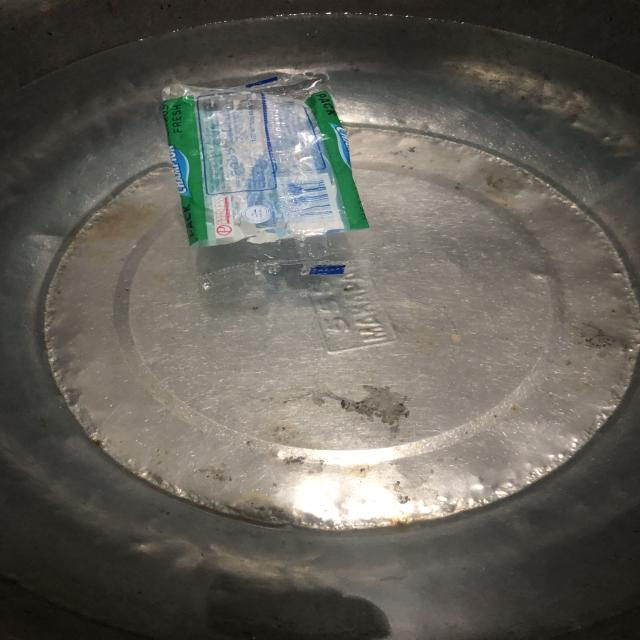Plastic Wrapper: (120, 38, 408, 327)
